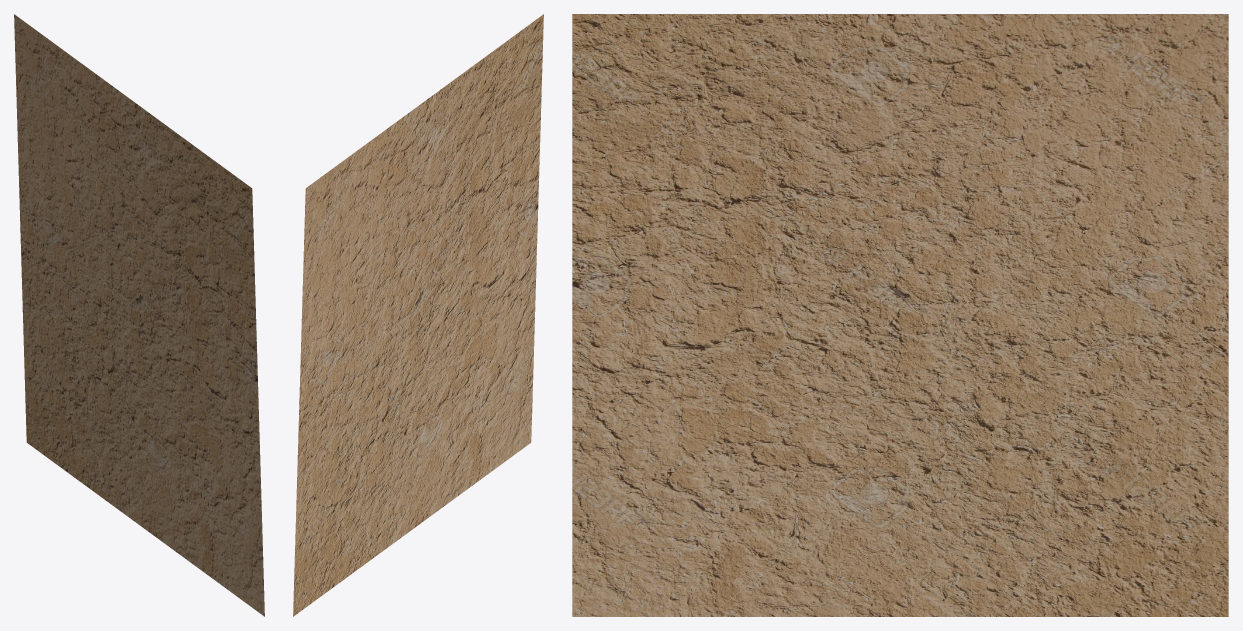
The model's file is colosseumwall.fbx.
3 renders of one model, left to right at view 1: azimuth 30°, elevation 25°; view 2: azimuth 150°, elevation 25°; view 3: azimuth 270°, elevation 25°, orthographic. The views are drawn at different scales.
Visible parts, largest first — view 1: Plane; view 2: Plane; view 3: Plane.
Boxes of the visible parts, box(x1,y1,x2,y2) form: Plane: box(14, 14, 264, 616); Plane: box(293, 14, 543, 616); Plane: box(572, 14, 1228, 616).
Size of the model in its own units: 6.12 by 200 by 200.
Materials: 1 (1 with a texture image).
